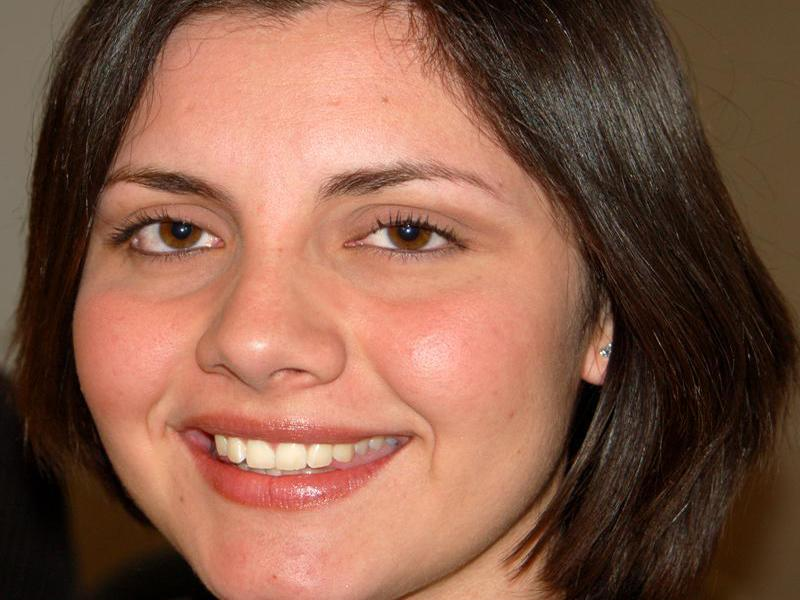person: (27, 3, 785, 600)
